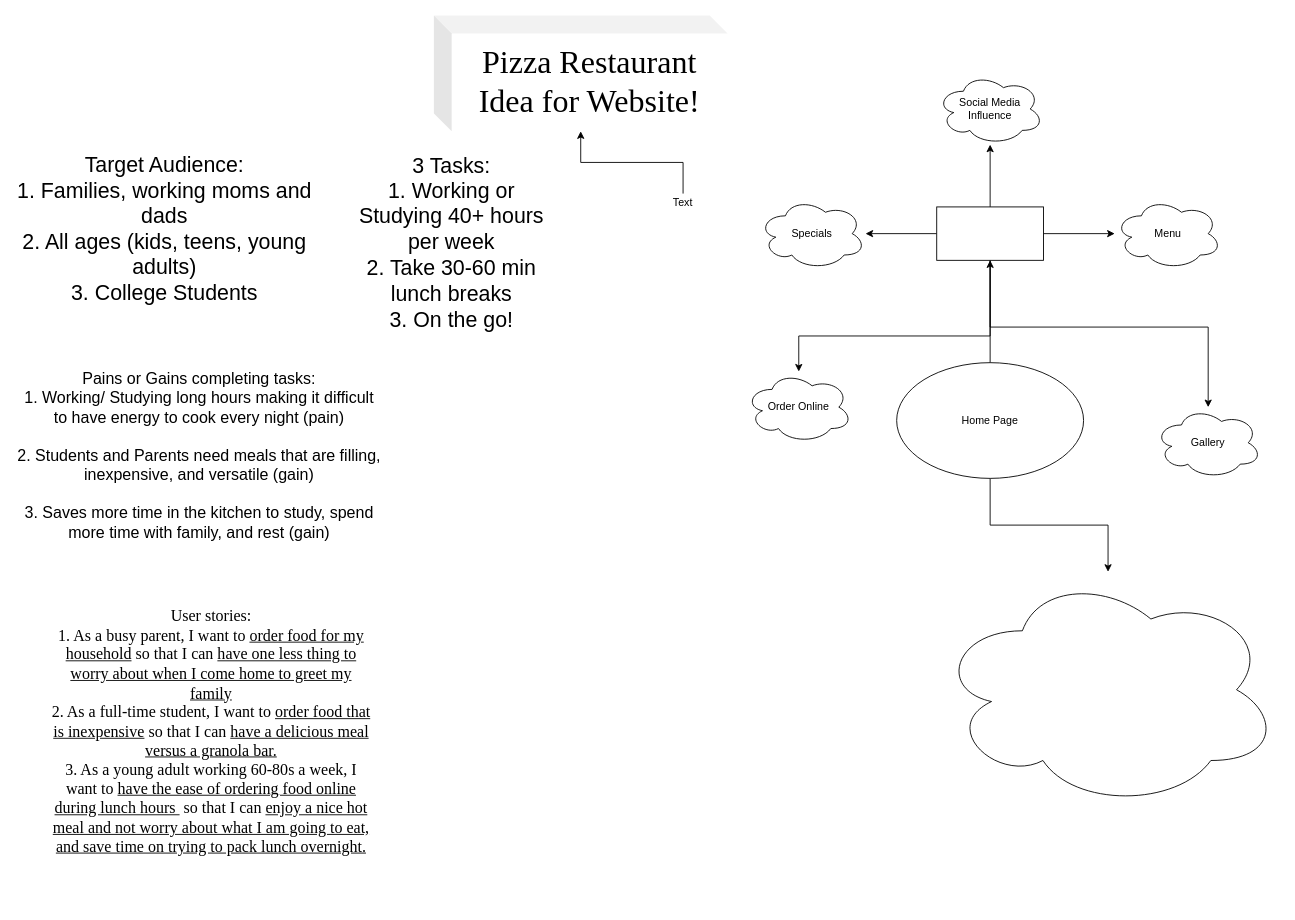
This 1295x920 diagram has some shape labels left out. The centre of each missing label's shape, as x and y in pixels:
Highlight Special of the day, and contact information: the point at 1107,689
Navigation Bar: the point at 990,233
